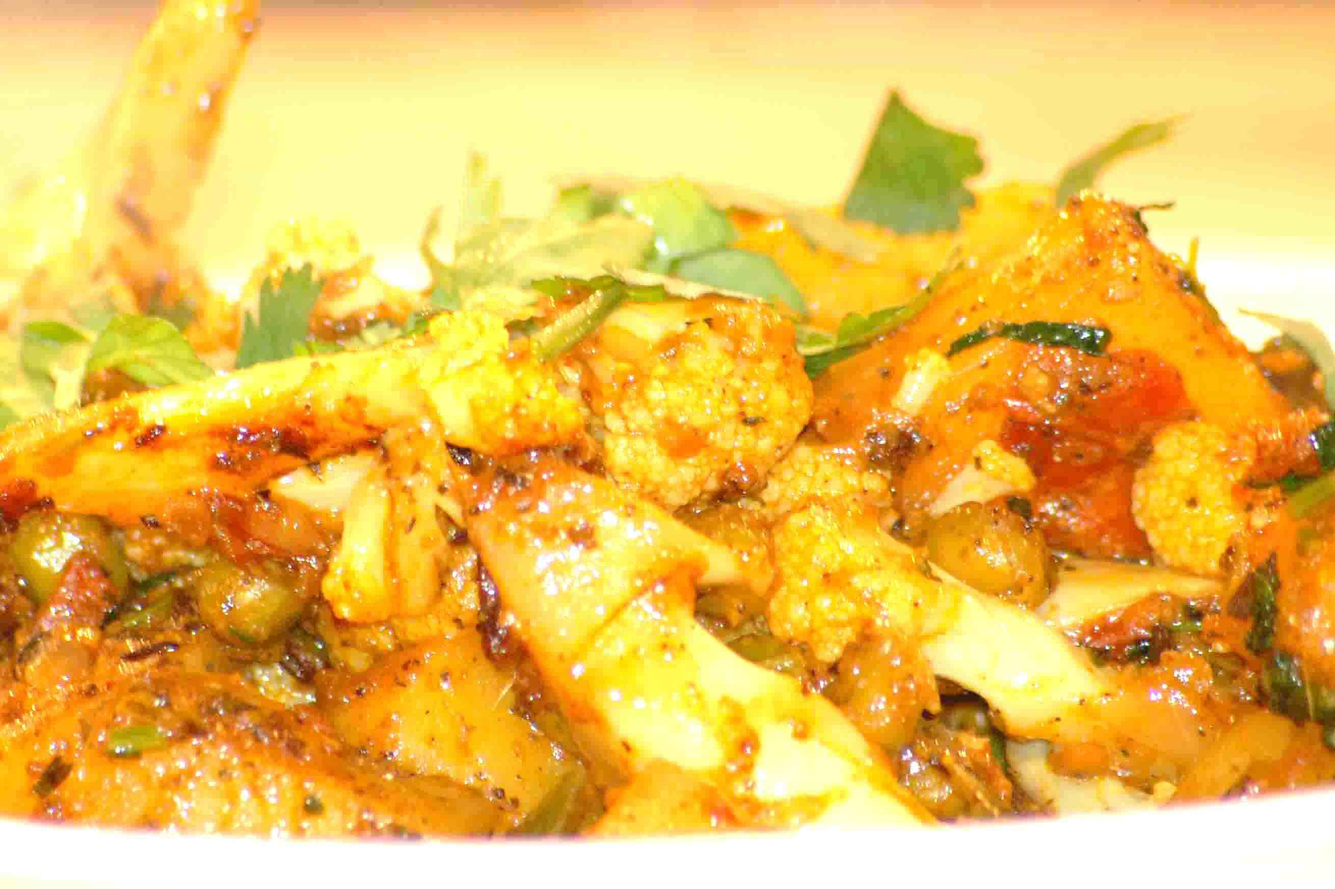AlooGobi: (0, 1, 1335, 838)
